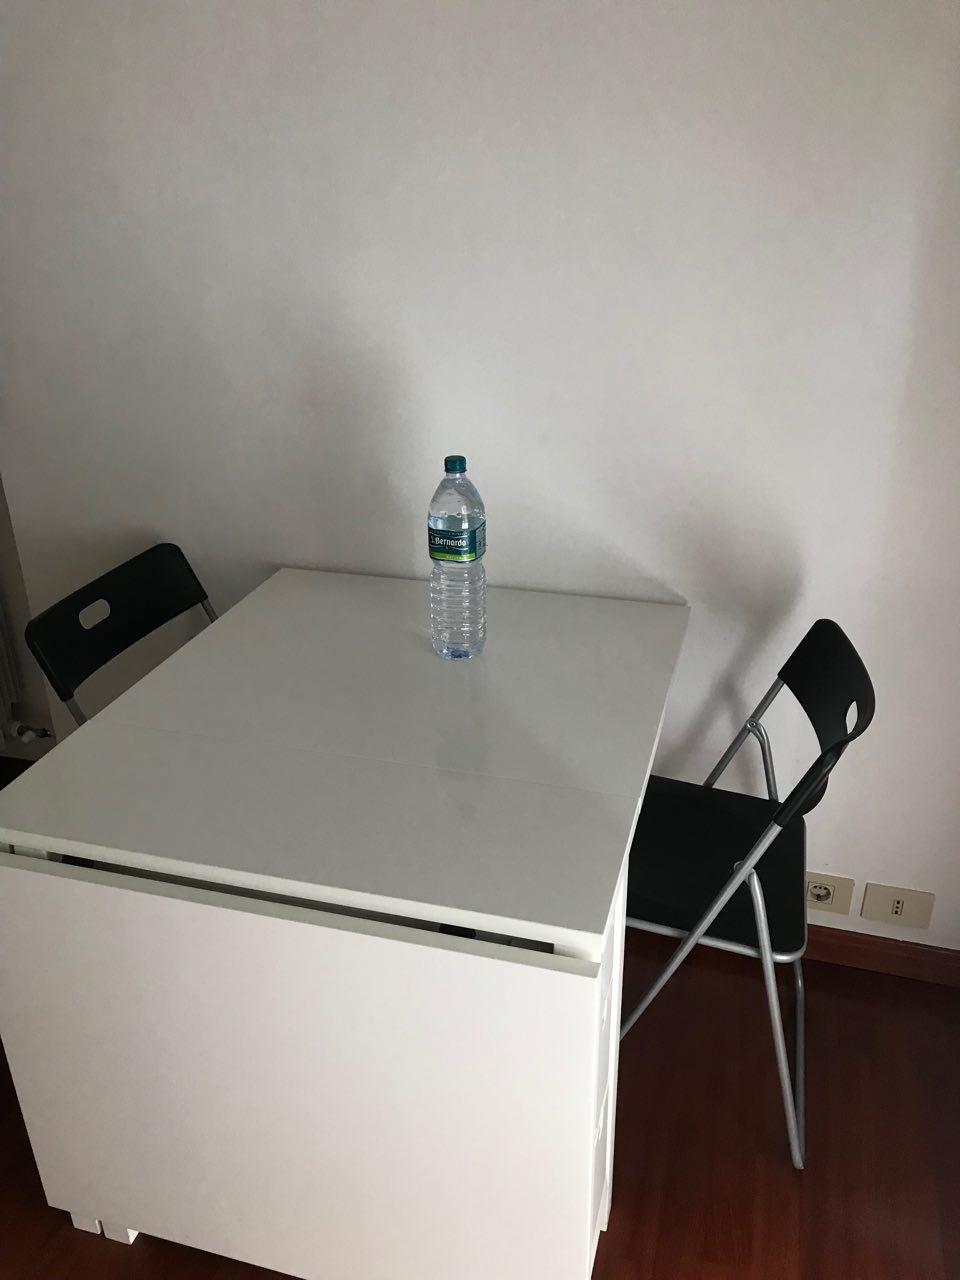san_bernardo: (427, 455, 488, 662)
